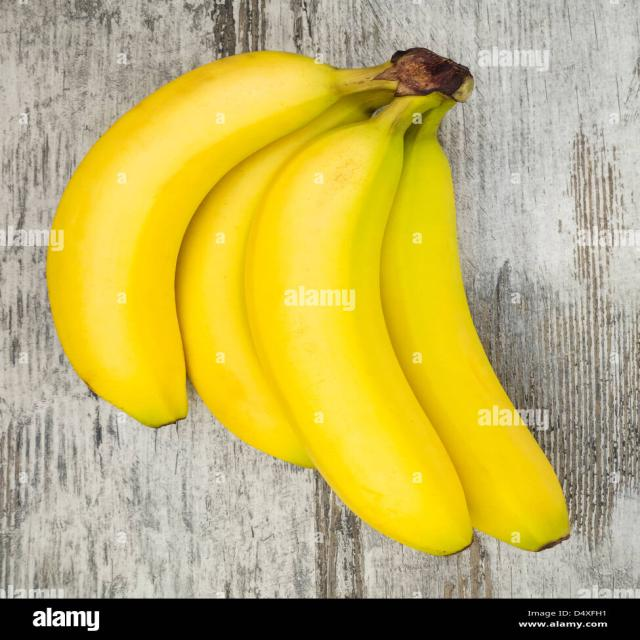banana: (44, 41, 586, 558)
